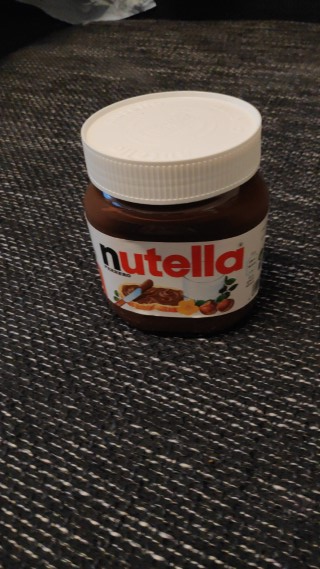nutella: (79, 88, 273, 337)
